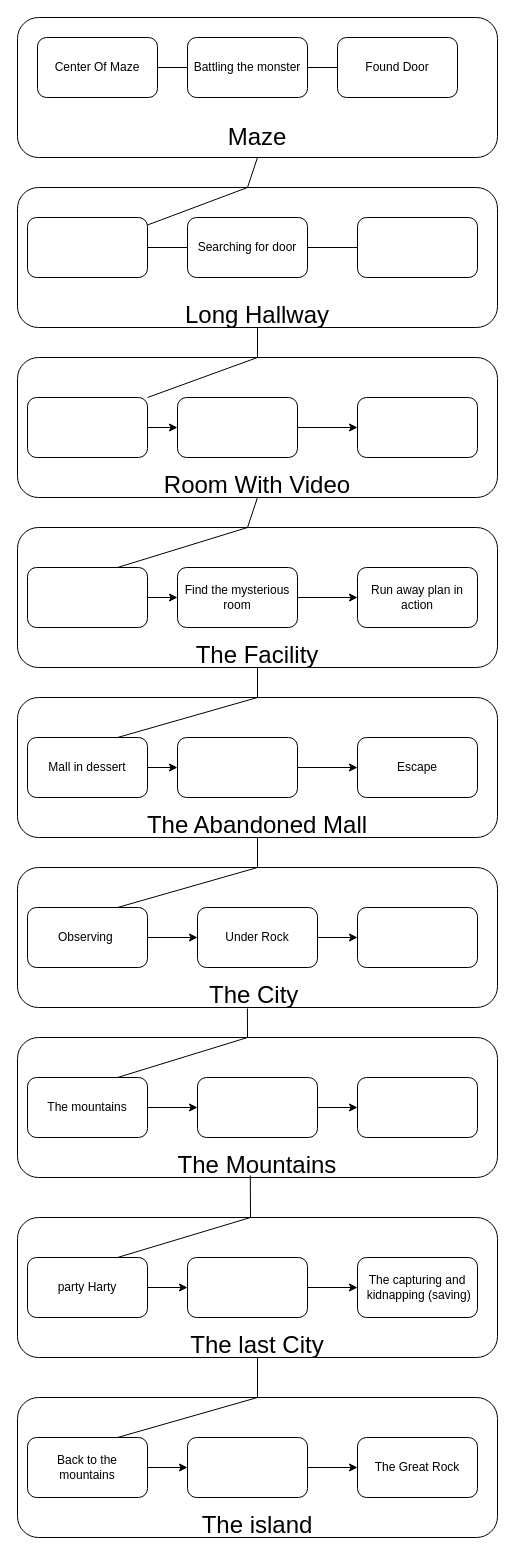
Image size: 515x1557. Some labels were removed from this diagram. Here are the shapes that lost their labels. From the top down, the centre of each, then its label:
point 87,247: Running for your life
point 417,247: Finding proper door to enter room
point 87,427: Listening to video
point 237,427: "getting rid of brother"
point 417,427: being kidnapped kinda
point 87,597: Get suspicious
point 237,767: Explore
point 417,937: The Trade
point 257,1107: The saving truth
point 417,1107: The capture
point 247,1287: The wall
point 247,1467: Ship Sets Sail
